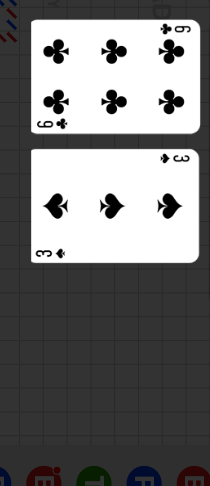3S: (35, 246, 68, 260)
6C: (157, 23, 192, 37)
